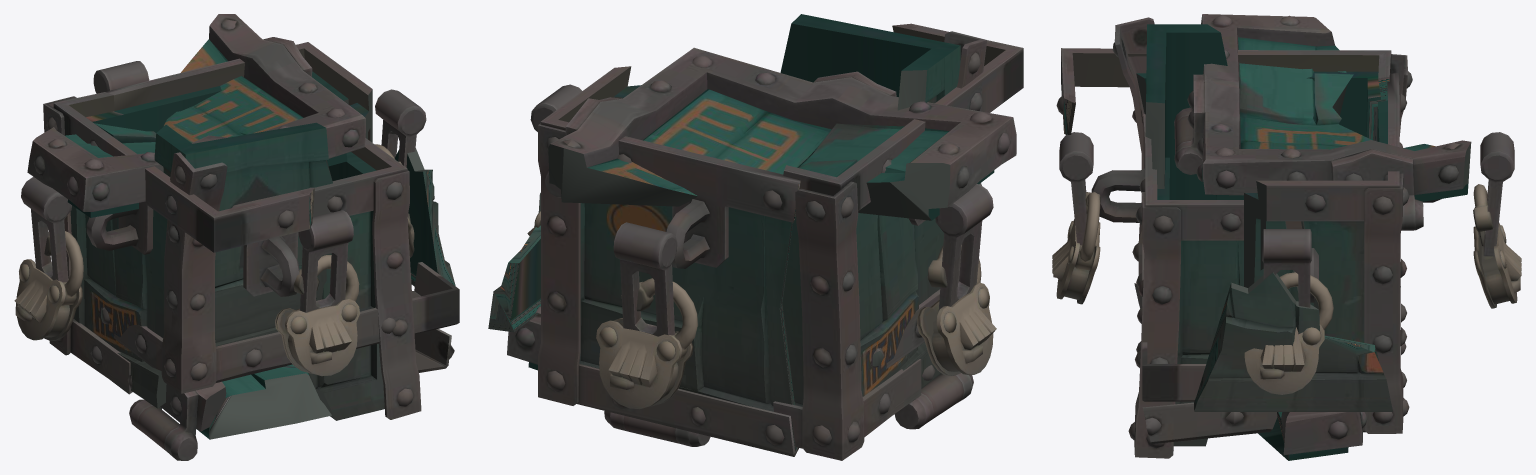
Rendered from pieces-DSw3brQl.glb.
The picture shows the model from 3 angles, left to right: view 1: azimuth 30°, elevation 25°; view 2: azimuth 150°, elevation 25°; view 3: azimuth 270°, elevation 25°; orthographic projection. The views are drawn at different scales.
Visible parts, largest first — view 1: piece_22, piece_15, piece_01, piece_23, piece_16, piece_17, piece_19, piece_18, piece_26, piece_24, piece_25, piece_27 (+1 smaller); view 2: piece_17, piece_01, piece_15, piece_22, piece_21, piece_18, piece_16, piece_28, piece_25, piece_24, piece_27; view 3: piece_01, piece_17, piece_23, piece_24, piece_22, piece_15, piece_20, piece_16, piece_21, piece_19, piece_27, piece_28 (+1 smaller).
Part boxes in pixels (<box>): piece_22: <box>101,122,459,393</box>; piece_15: <box>43,92,314,408</box>; piece_01: <box>27,14,365,217</box>; piece_23: <box>232,138,421,420</box>; piece_16: <box>129,364,331,460</box>; piece_17: <box>105,42,454,372</box>; piece_19: <box>275,255,359,376</box>; piece_18: <box>14,231,83,340</box>; piece_26: <box>298,210,353,312</box>; piece_24: <box>394,148,455,286</box>; piece_25: <box>21,177,71,282</box>; piece_27: <box>375,89,426,167</box>; piece_17: <box>538,66,800,456</box>; piece_01: <box>545,47,1016,220</box>; piece_15: <box>773,23,1023,460</box>; piece_22: <box>780,14,987,368</box>; piece_21: <box>596,278,697,409</box>; piece_18: <box>917,245,996,375</box>; piece_16: <box>507,306,973,446</box>; piece_28: <box>613,222,677,336</box>; piece_25: <box>935,184,993,310</box>; piece_24: <box>488,192,540,332</box>; piece_27: <box>530,84,581,131</box>; piece_01: <box>1174,14,1471,230</box>; piece_17: <box>1142,73,1441,443</box>; piece_23: <box>1091,113,1318,458</box>; piece_24: <box>1194,272,1392,411</box>; piece_22: <box>1112,17,1227,401</box>; piece_15: <box>1056,48,1412,286</box>; piece_20: <box>1244,272,1333,394</box>; piece_16: <box>1134,283,1367,460</box>; piece_21: <box>1473,184,1521,308</box>; piece_19: <box>1052,192,1100,304</box>; piece_27: <box>1262,229,1311,307</box>; piece_28: <box>1480,132,1514,256</box>.
Bounding box in the file's own units: 2.41 × 1.82 × 2.41.
1 material, 1 textured.
